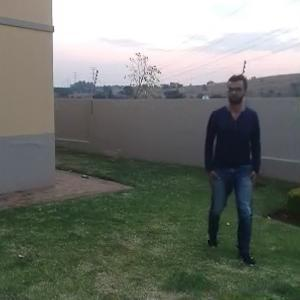follow: (197, 68, 249, 251)
